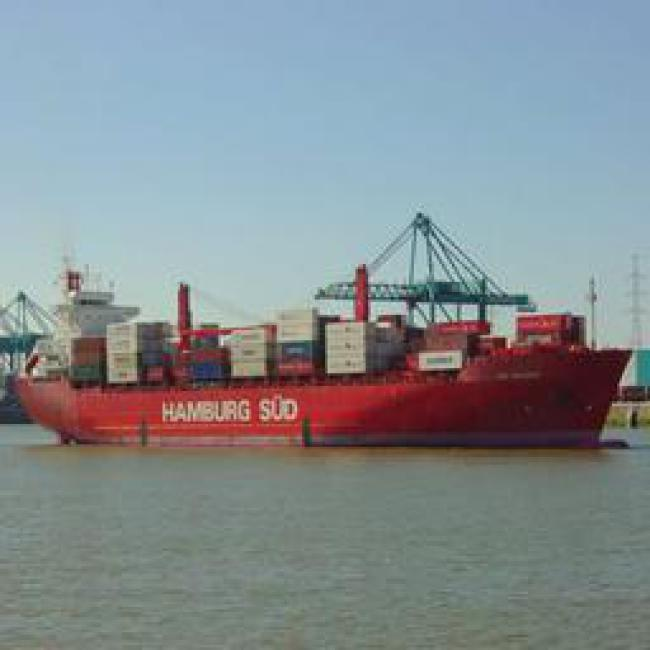Ship: (3, 329, 626, 454)
